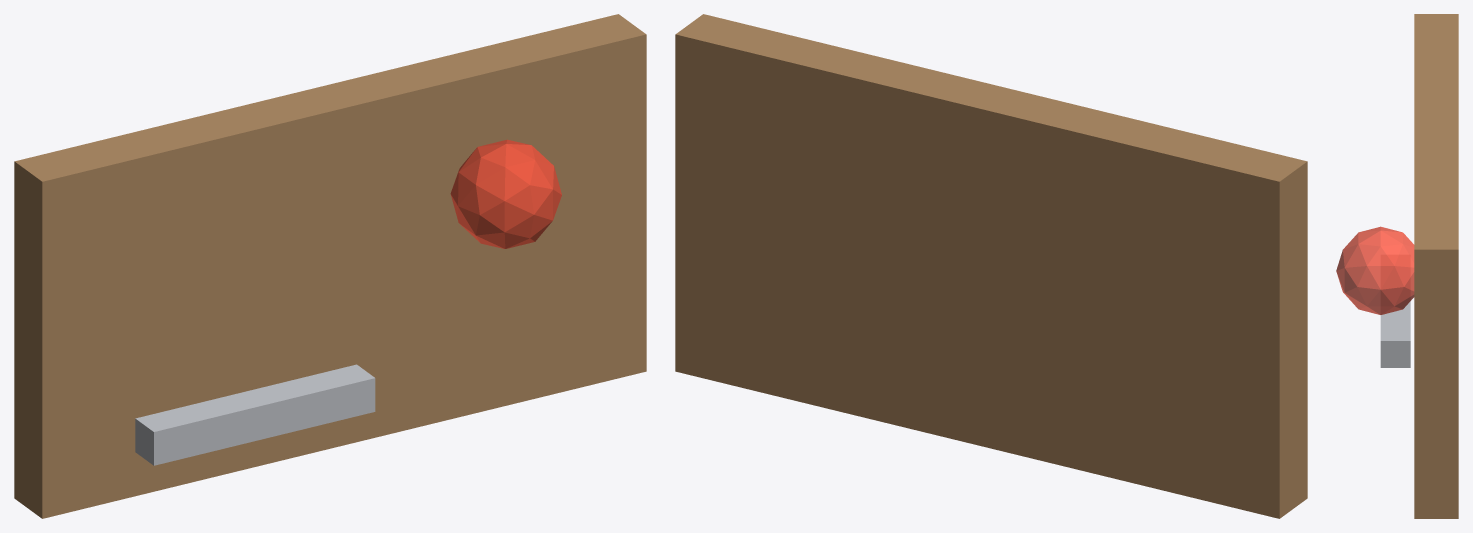
File: weapon_skin_station.glb
3 renders of one model, left to right at view 1: azimuth 30°, elevation 25°; view 2: azimuth 150°, elevation 25°; view 3: azimuth 270°, elevation 25°, orthographic. The views are drawn at different scales.
Visible parts, largest first — view 1: bench_top, tool_a, power_core; view 2: bench_top; view 3: bench_top, power_core, tool_a.
Boxes of the visible parts, x1,y1,x2,y2 form: bench_top: [14, 14, 646, 518]; tool_a: [135, 364, 375, 465]; power_core: [450, 139, 561, 248]; bench_top: [675, 14, 1307, 518]; bench_top: [1414, 14, 1458, 518]; power_core: [1336, 226, 1414, 314]; tool_a: [1380, 255, 1410, 367].
Size of the model in its own units: 1.5 by 0.8 by 0.33.
